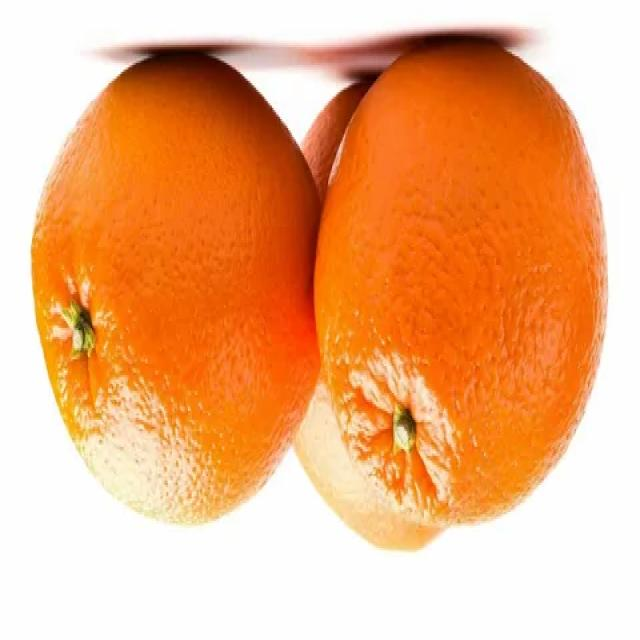orange: (18, 41, 332, 534)
